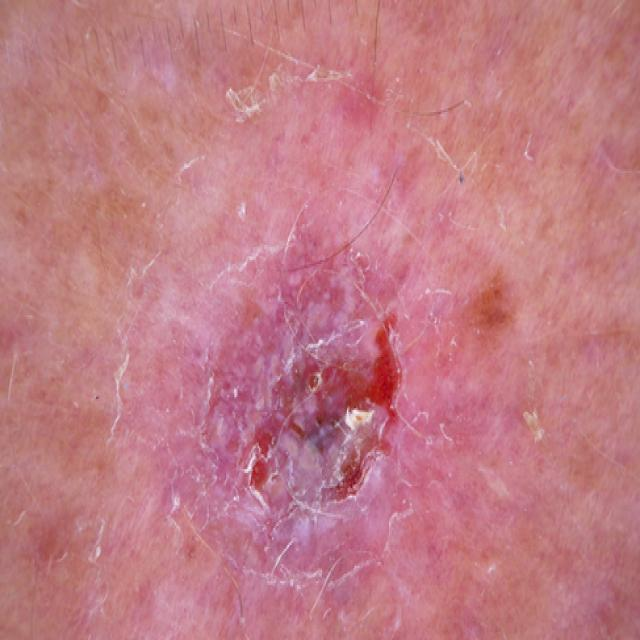Carcinoma: (89, 141, 553, 616)
